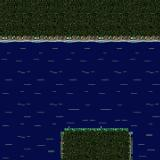Interaction: (0, 26, 160, 52)
Slow: (0, 43, 58, 160), (58, 43, 133, 126), (133, 44, 160, 160)
